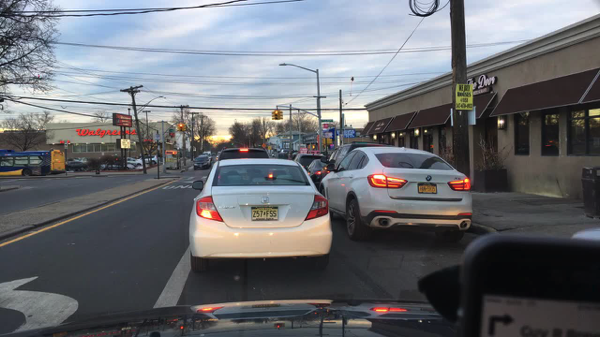bus: (0, 150, 65, 177)
car: (188, 158, 331, 273), (318, 145, 473, 240), (318, 142, 390, 180), (214, 147, 272, 161), (307, 157, 329, 187), (293, 153, 327, 169), (572, 226, 599, 243), (102, 157, 132, 172), (65, 157, 92, 172), (191, 157, 211, 171), (140, 156, 160, 166), (125, 157, 142, 166), (286, 151, 297, 164), (198, 155, 211, 164), (203, 150, 211, 160), (277, 147, 286, 155), (211, 152, 218, 157)
traffic light: (320, 137, 329, 144), (274, 109, 279, 121), (178, 123, 183, 134), (278, 110, 282, 121), (272, 109, 275, 119), (311, 144, 315, 151), (182, 124, 185, 132), (231, 141, 234, 147)
traffic sign: (319, 119, 332, 123), (261, 142, 266, 150), (267, 145, 272, 151), (323, 124, 327, 131)
